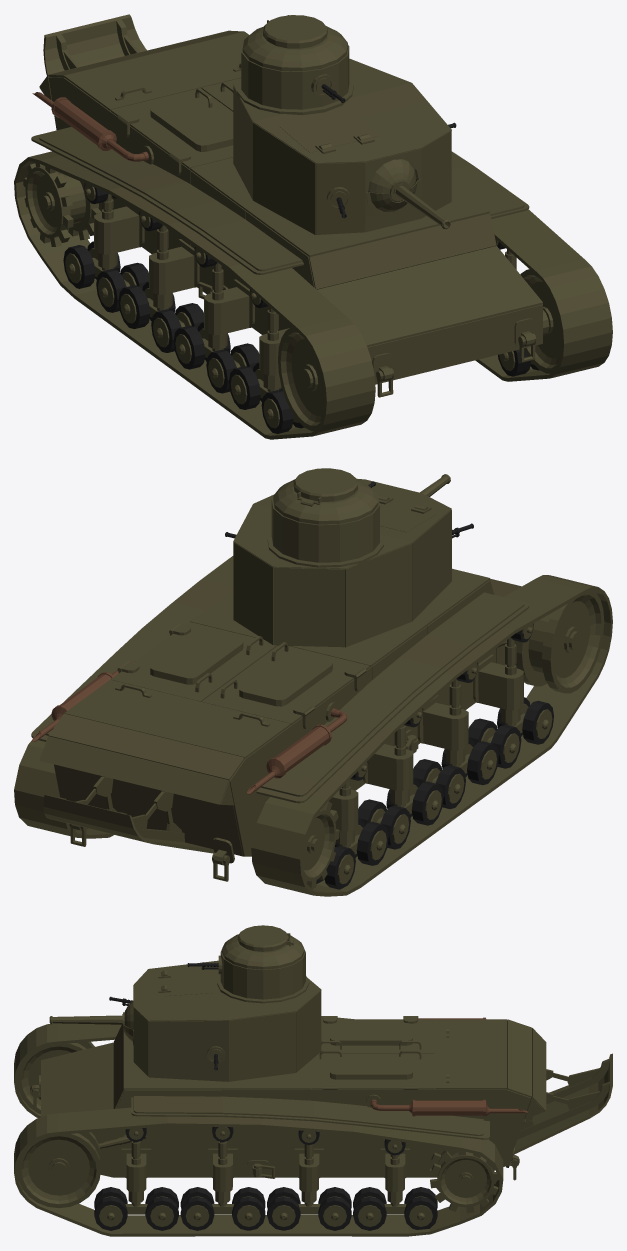
The model's file is t12_prototype_medium_ios.glb.
The picture shows the model from 3 angles, top to bottom: view 1: azimuth 30°, elevation 25°; view 2: azimuth 150°, elevation 25°; view 3: azimuth 270°, elevation 25°; orthographic projection. The views are drawn at different scales.
Parts seen in each view (by area): view 1: T-26 BODY, T-26 TOWER; view 2: T-26 BODY, T-26 TOWER; view 3: T-26 BODY, T-26 TOWER.
Boxes of the visible parts, box(x1,y1,x2,y2) form: T-26 BODY: box(14, 14, 612, 439); T-26 TOWER: box(233, 15, 456, 234); T-26 BODY: box(14, 556, 612, 896); T-26 TOWER: box(225, 468, 473, 647); T-26 BODY: box(14, 1016, 612, 1236); T-26 TOWER: box(49, 925, 321, 1081).
Size of the model in its own units: 2.59 by 2.66 by 6.
